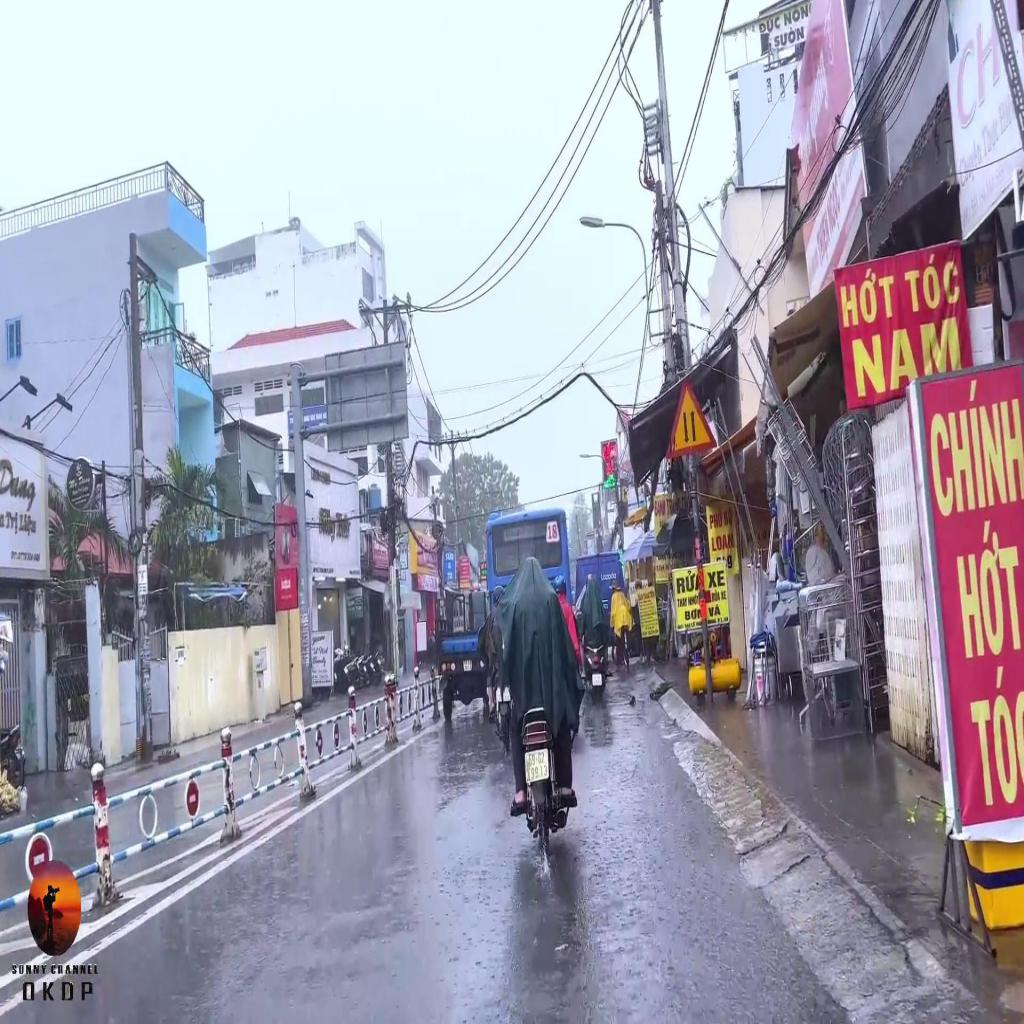khac: (666, 377, 719, 461)
